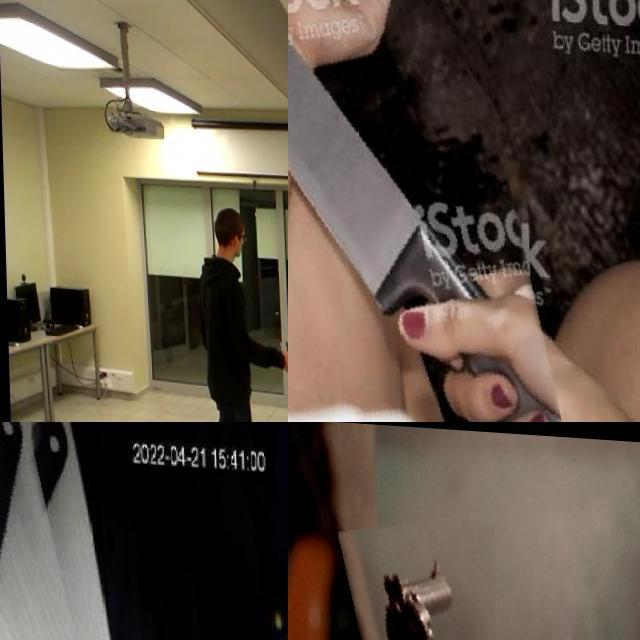-: (288, 0, 536, 422), (0, 422, 148, 640)
gun-knife-thesis - v11 Yolov5 augmented: (348, 511, 499, 640), (279, 334, 288, 375)
